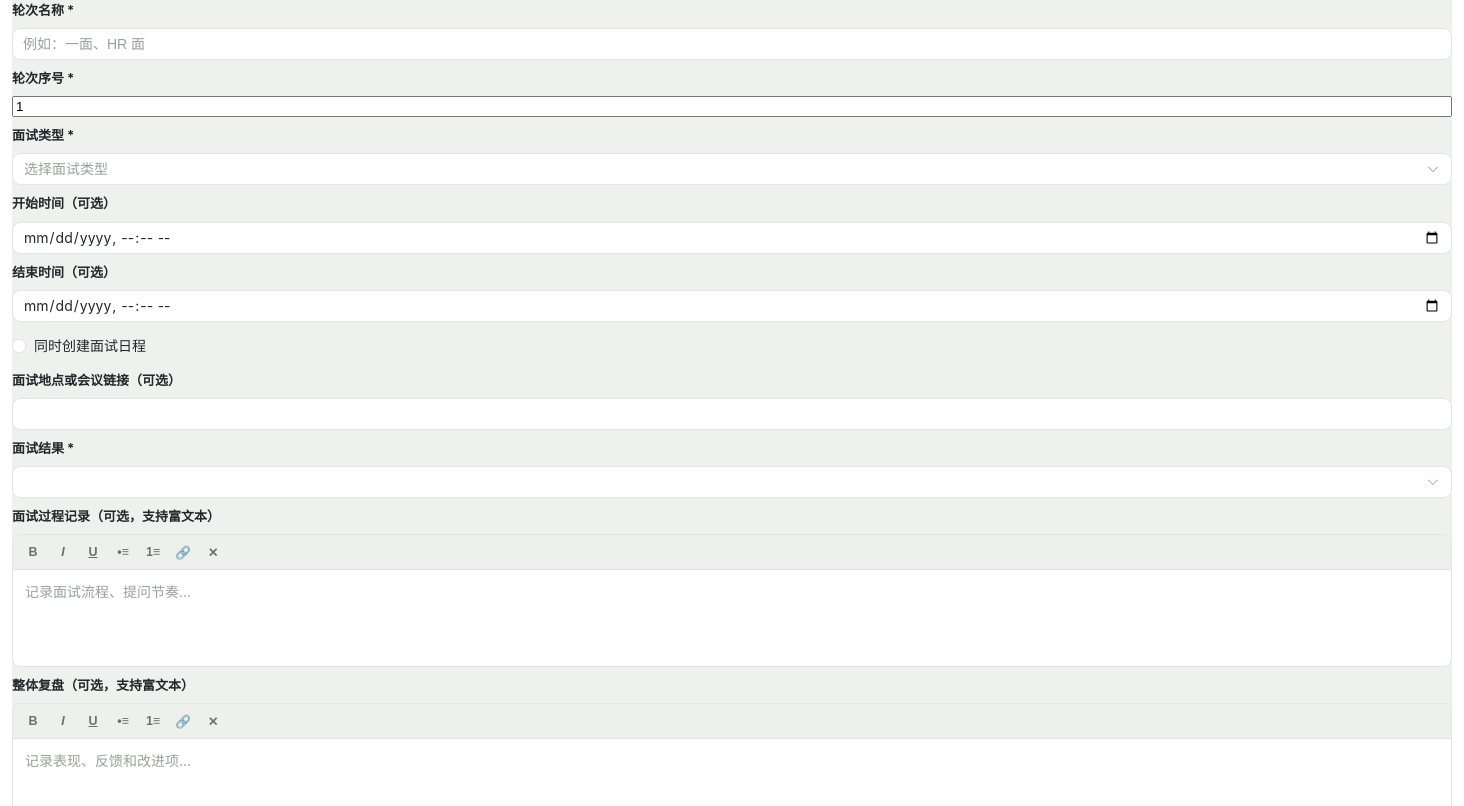
Scenario: InterviewRoundForm › requires round name, interview type and a positive round number
Replace the text in the number field named "roundNumber" with "0": (732, 107) [12, 96, 1452, 117]
(page scrolled)
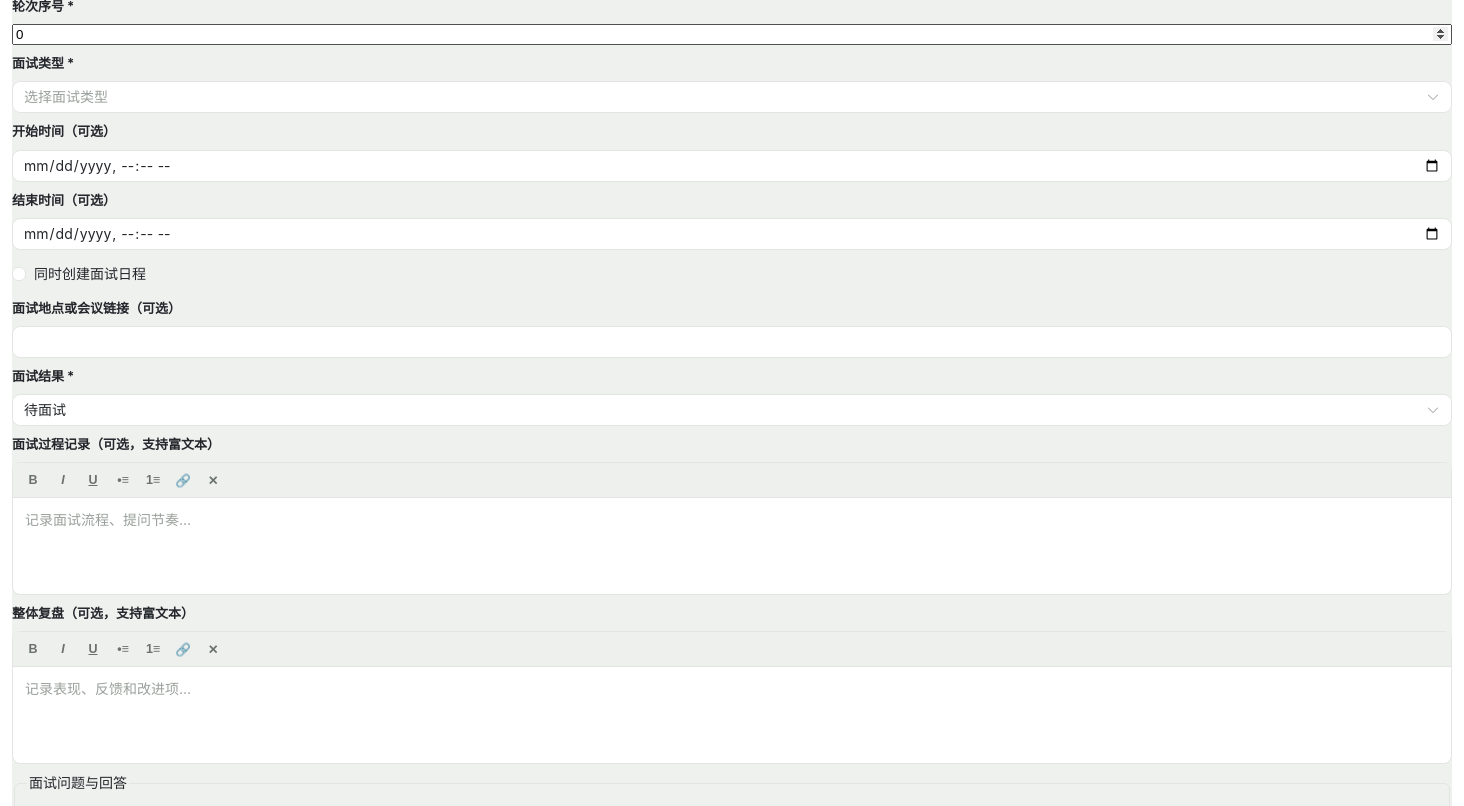
Submit the form
(page scrolled)
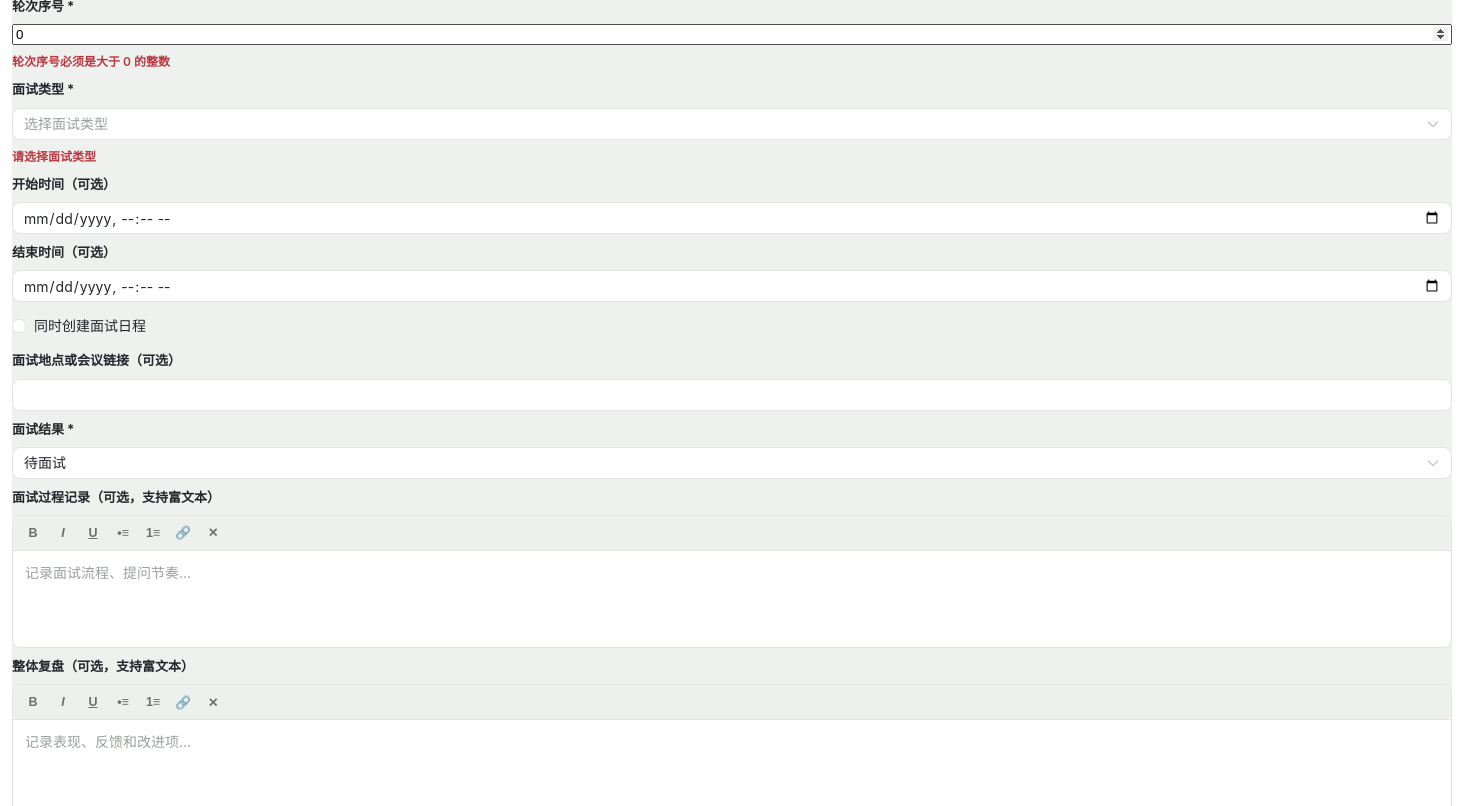
Expected: the message "轮次序号必须是大于 0 的整数" is shown, [12, 54, 170, 69]
Expected: the message "请选择面试类型" is shown, [12, 149, 96, 164]
